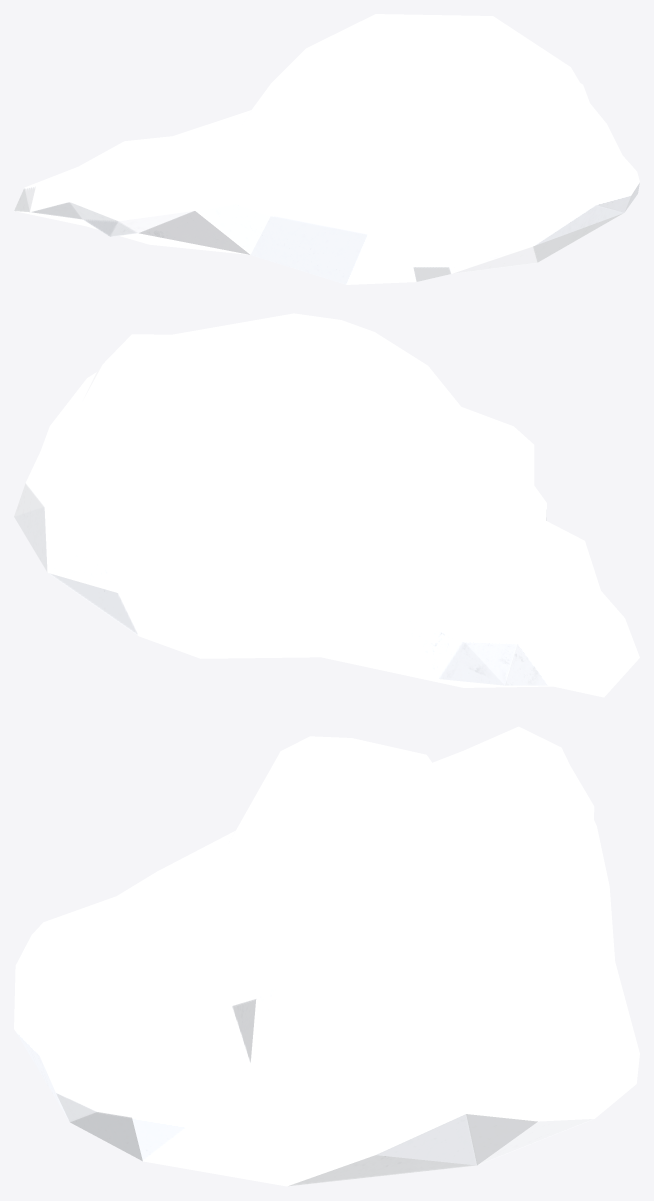
Rendered from Cloudd.glb.
3 views of the same model, one above another, from view 1: azimuth 30°, elevation 25°; view 2: azimuth 150°, elevation 25°; view 3: azimuth 270°, elevation 25° (orthographic). The views are drawn at different scales.
Visible parts, largest first — view 1: cloud_large.1; view 2: cloud_large.1; view 3: cloud_large.1.
Boxes of the visible parts, <box> form: cloud_large.1: <box>14,14,639,284</box>; cloud_large.1: <box>14,313,639,697</box>; cloud_large.1: <box>14,726,639,1186</box>.
Size of the model in its own units: 0.448 by 0.1741 by 0.2985.
1 material, 1 textured.
